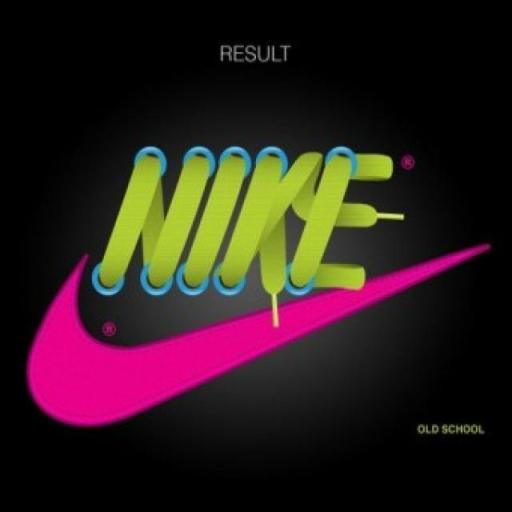Nike: (27, 243, 492, 432), (96, 150, 396, 296)
